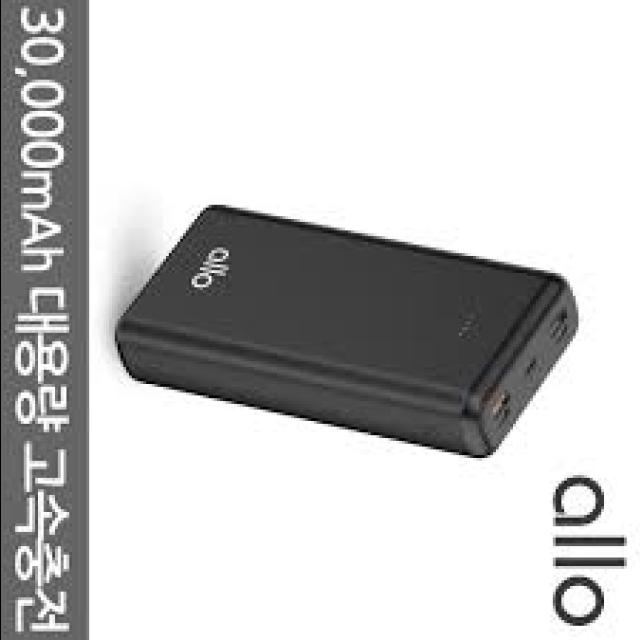portable-charger: (114, 205, 582, 469)
